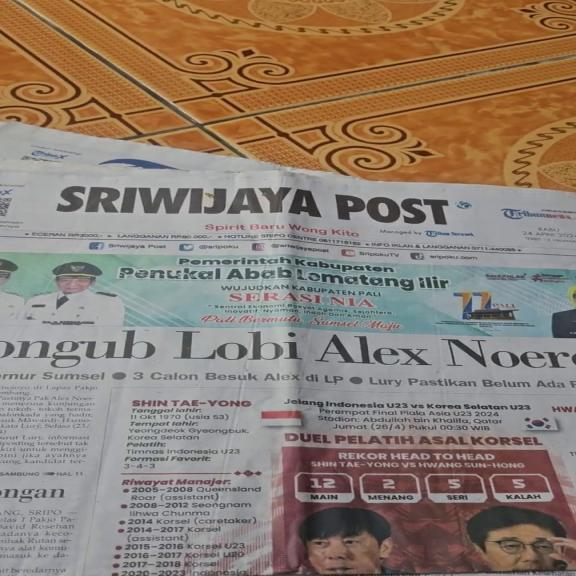Kertas: (4, 192, 568, 576)
